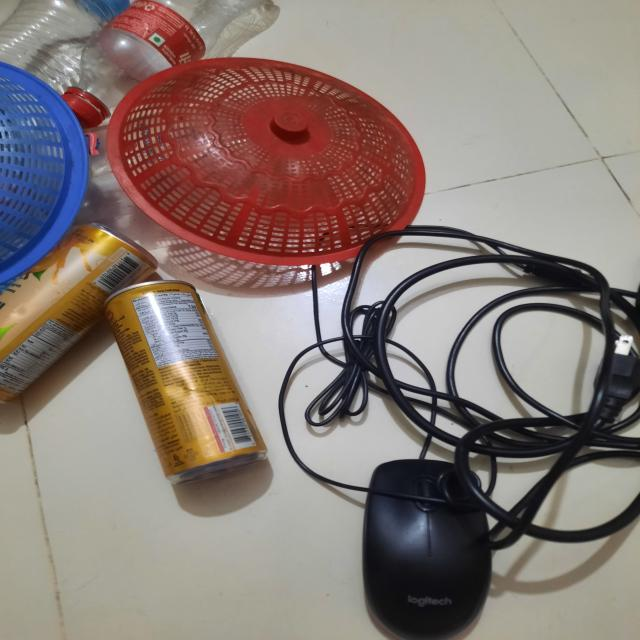Cable: (288, 236, 640, 560)
Plastics: (0, 0, 419, 276)
can: (0, 234, 260, 501)
